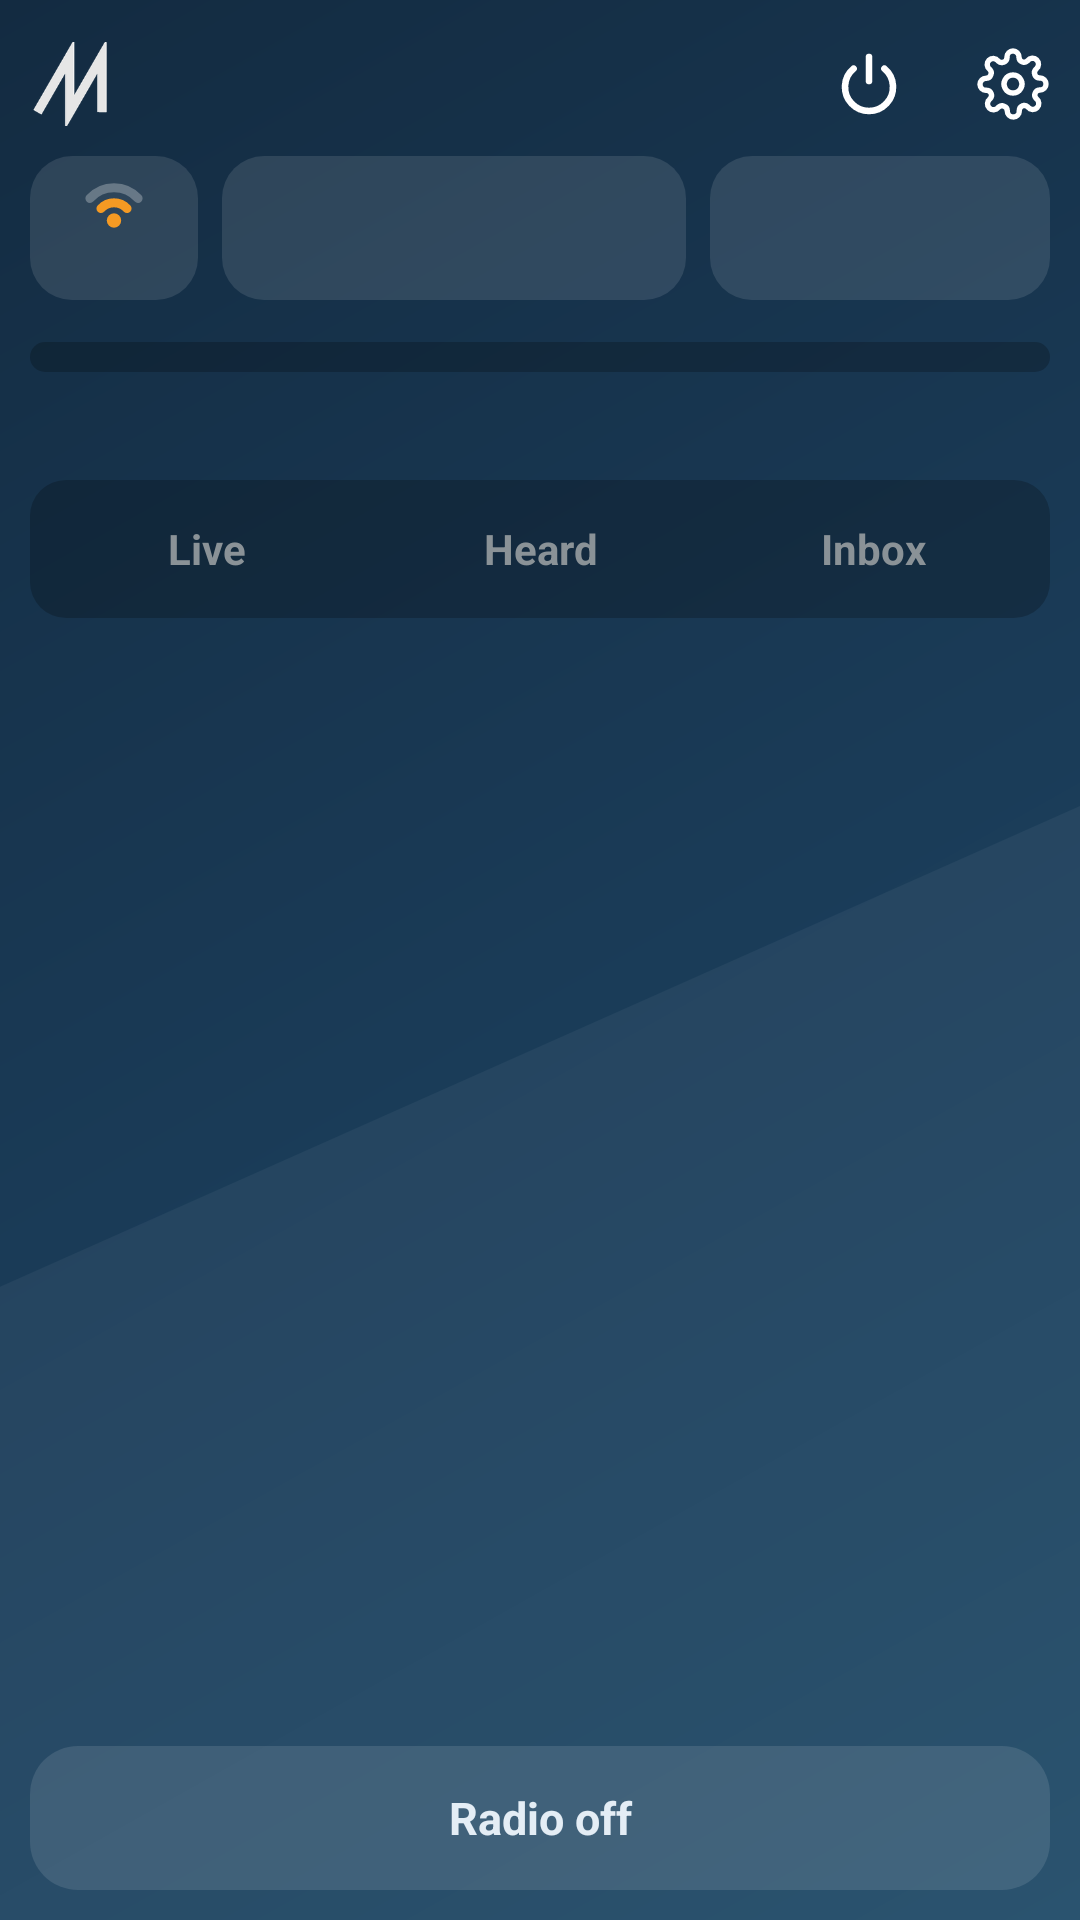

Where icons sit on this 1080px x 1920px app screen, as (x1, y1, x2, y2):
Start or stop the radio: (841, 53, 897, 115)
txpower lo: (85, 183, 143, 228)
